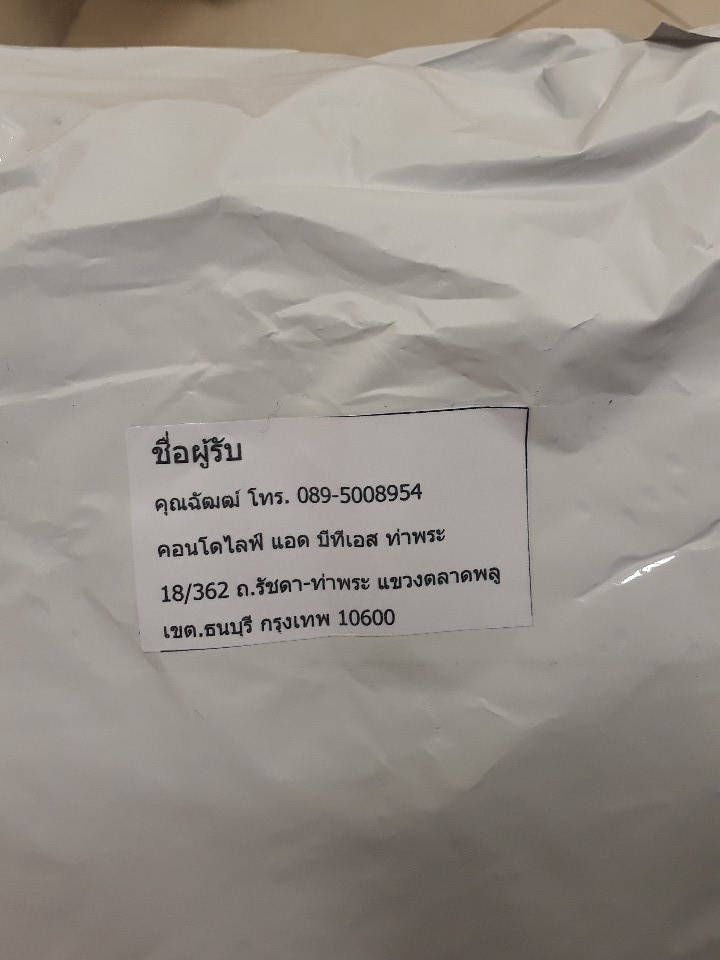txt: (143, 426, 507, 644)
